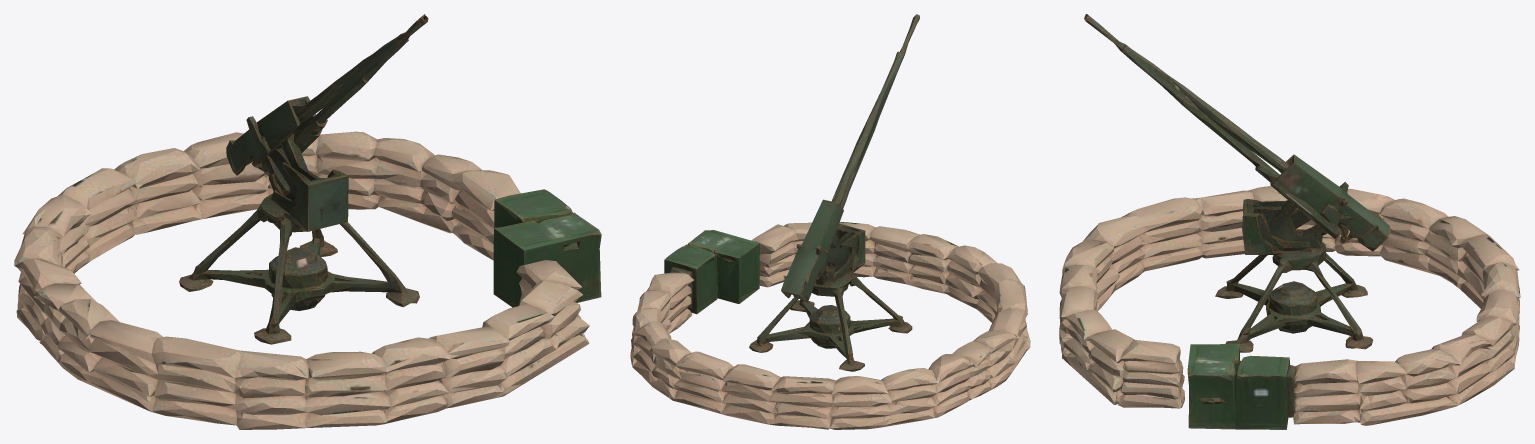
Rendered from zu23_emplacement.glb.
3 views of the same model, side by side, from view 1: azimuth 30°, elevation 25°; view 2: azimuth 150°, elevation 25°; view 3: azimuth 270°, elevation 25° (orthographic). The views are drawn at different scales.
Visible parts, largest first — view 1: zu23_emplacement; view 2: zu23_emplacement; view 3: zu23_emplacement.
Boxes of the visible parts, bbox=[...] form: zu23_emplacement: bbox=[14, 14, 601, 429]; zu23_emplacement: bbox=[630, 14, 1030, 429]; zu23_emplacement: bbox=[1059, 14, 1520, 429].
Bounding box in the file's own units: 3.89 × 3 × 3.88.
Materials: 1 (1 with a texture image).
